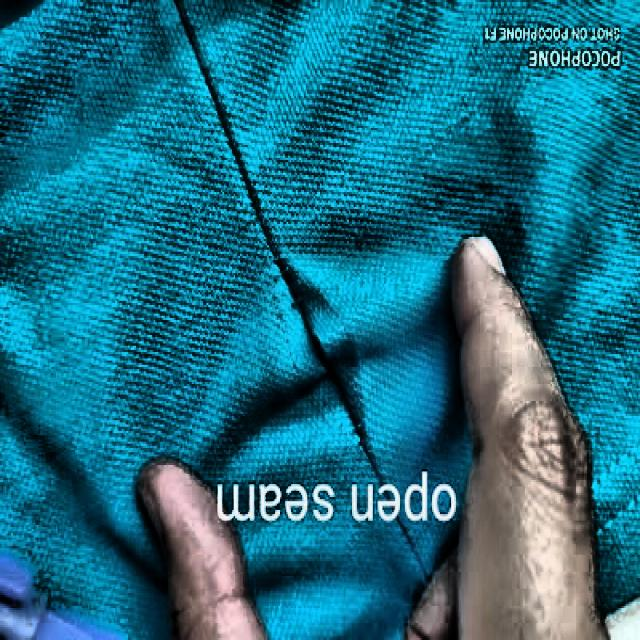seam: (251, 217, 394, 469)
